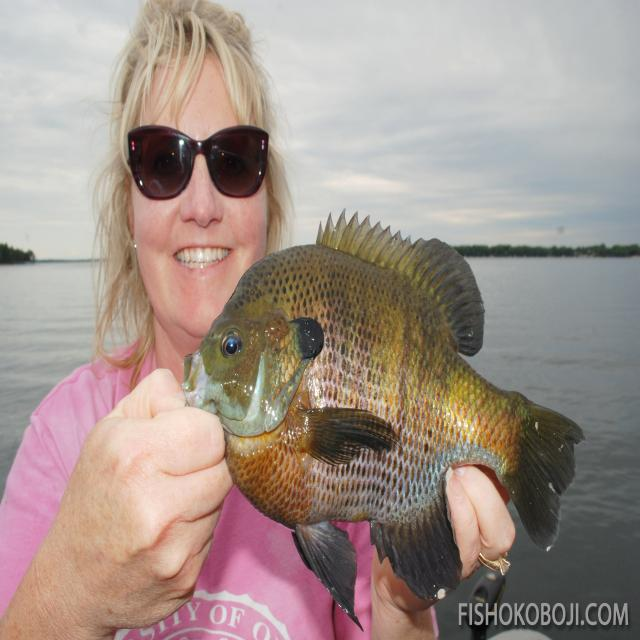Bluegill: (184, 213, 584, 624)
